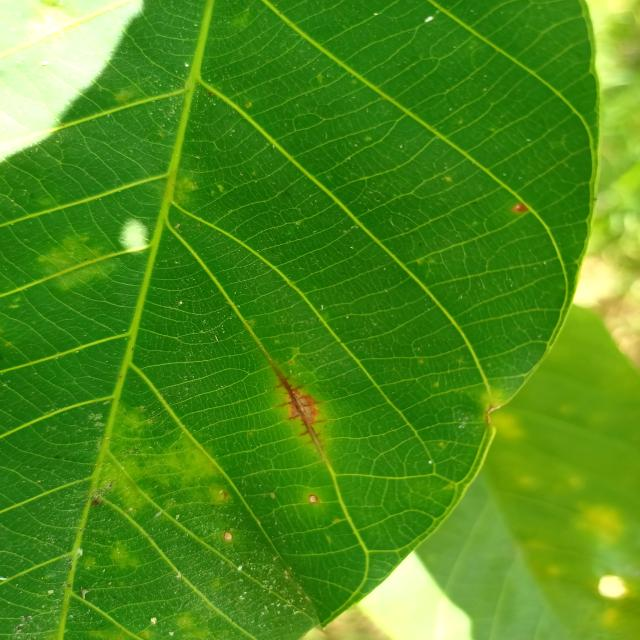Colletotrichum: (308, 495, 318, 503), (224, 532, 232, 540)
Corynespora: (274, 370, 326, 450)
